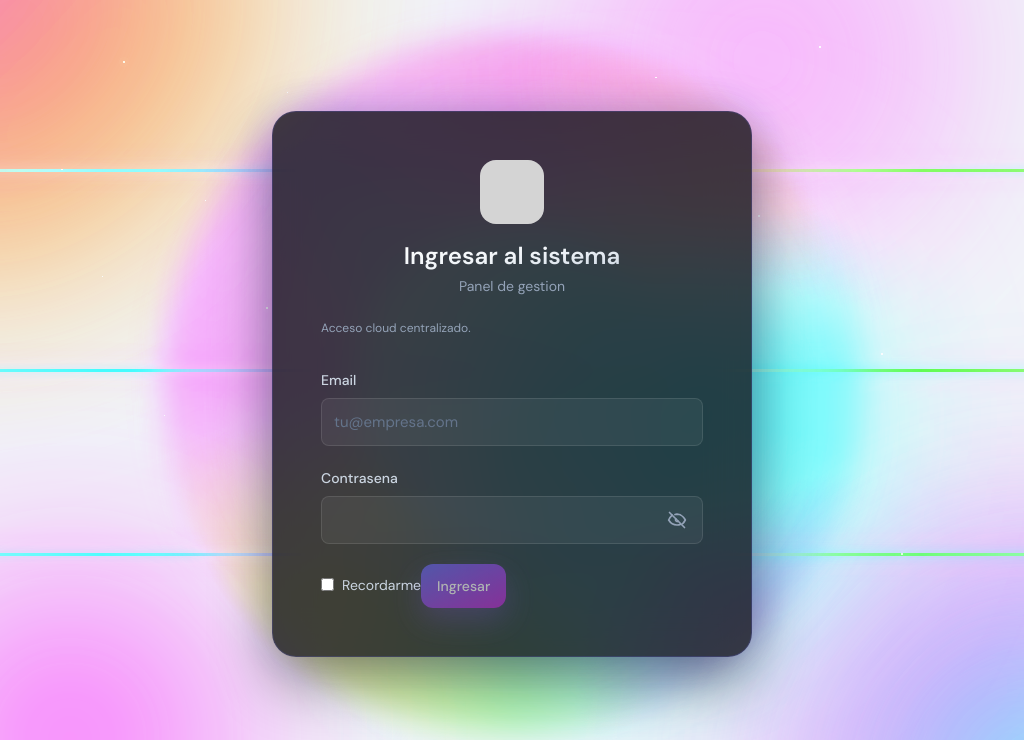
Test: LoginPage › pide codigo MFA cuando el backend lo requiere
Type "owner@kaisen.test" into the field labelled "Email" at (512, 422), box [321,398,703,446]
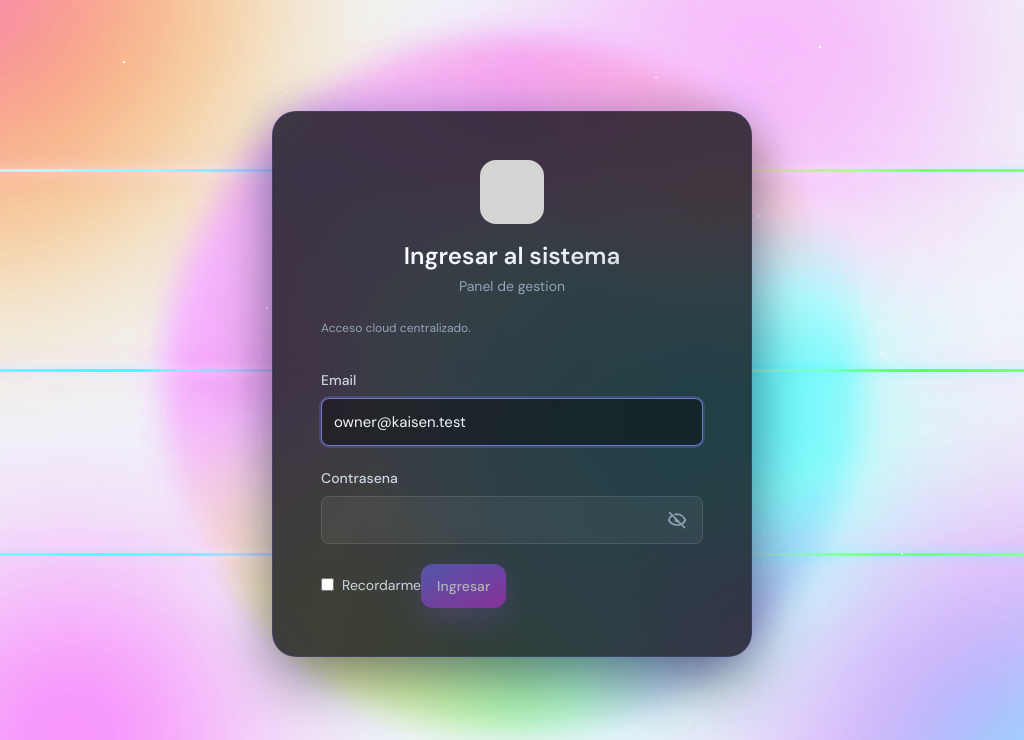
Type "secret123" into the password field labelled "Contrasena" at (512, 520), box [321,496,703,544]
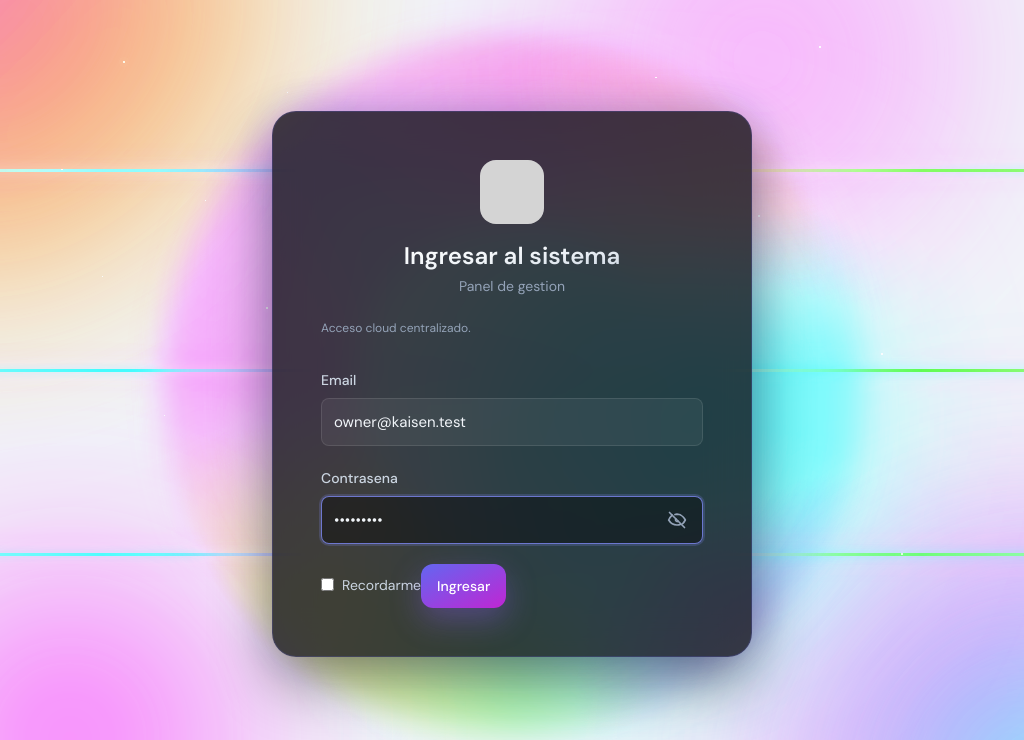
Click the button "Ingresar" at (464, 586), box [421,564,506,608]
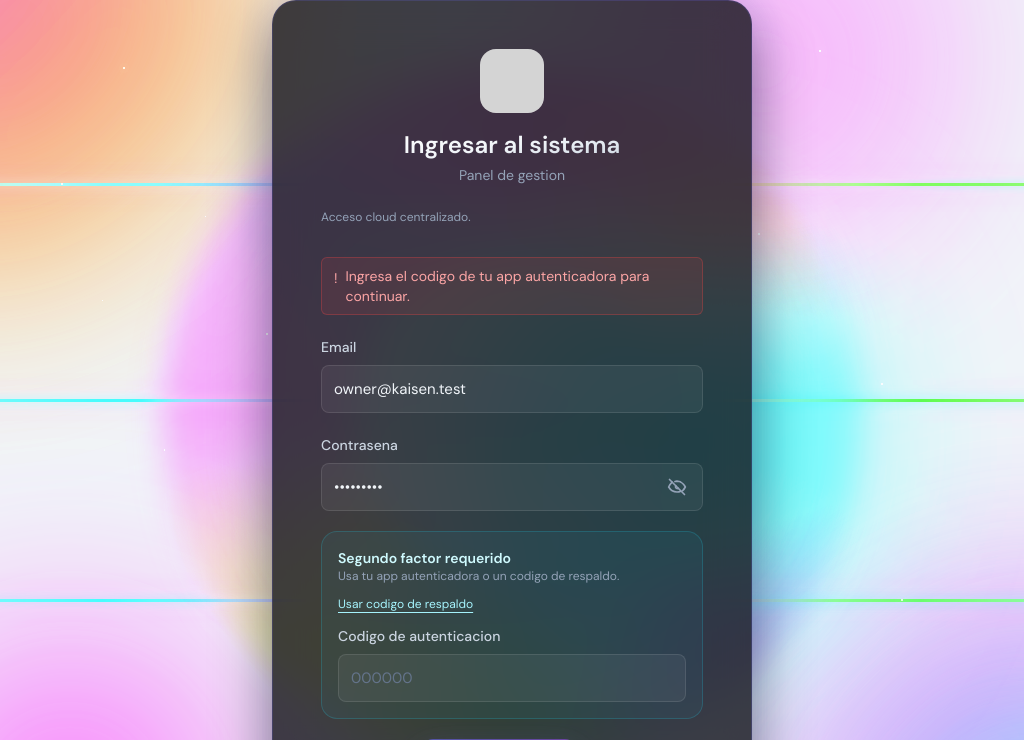
Result: the field labelled "Codigo de autenticacion" is shown at [338,654,686,702]
